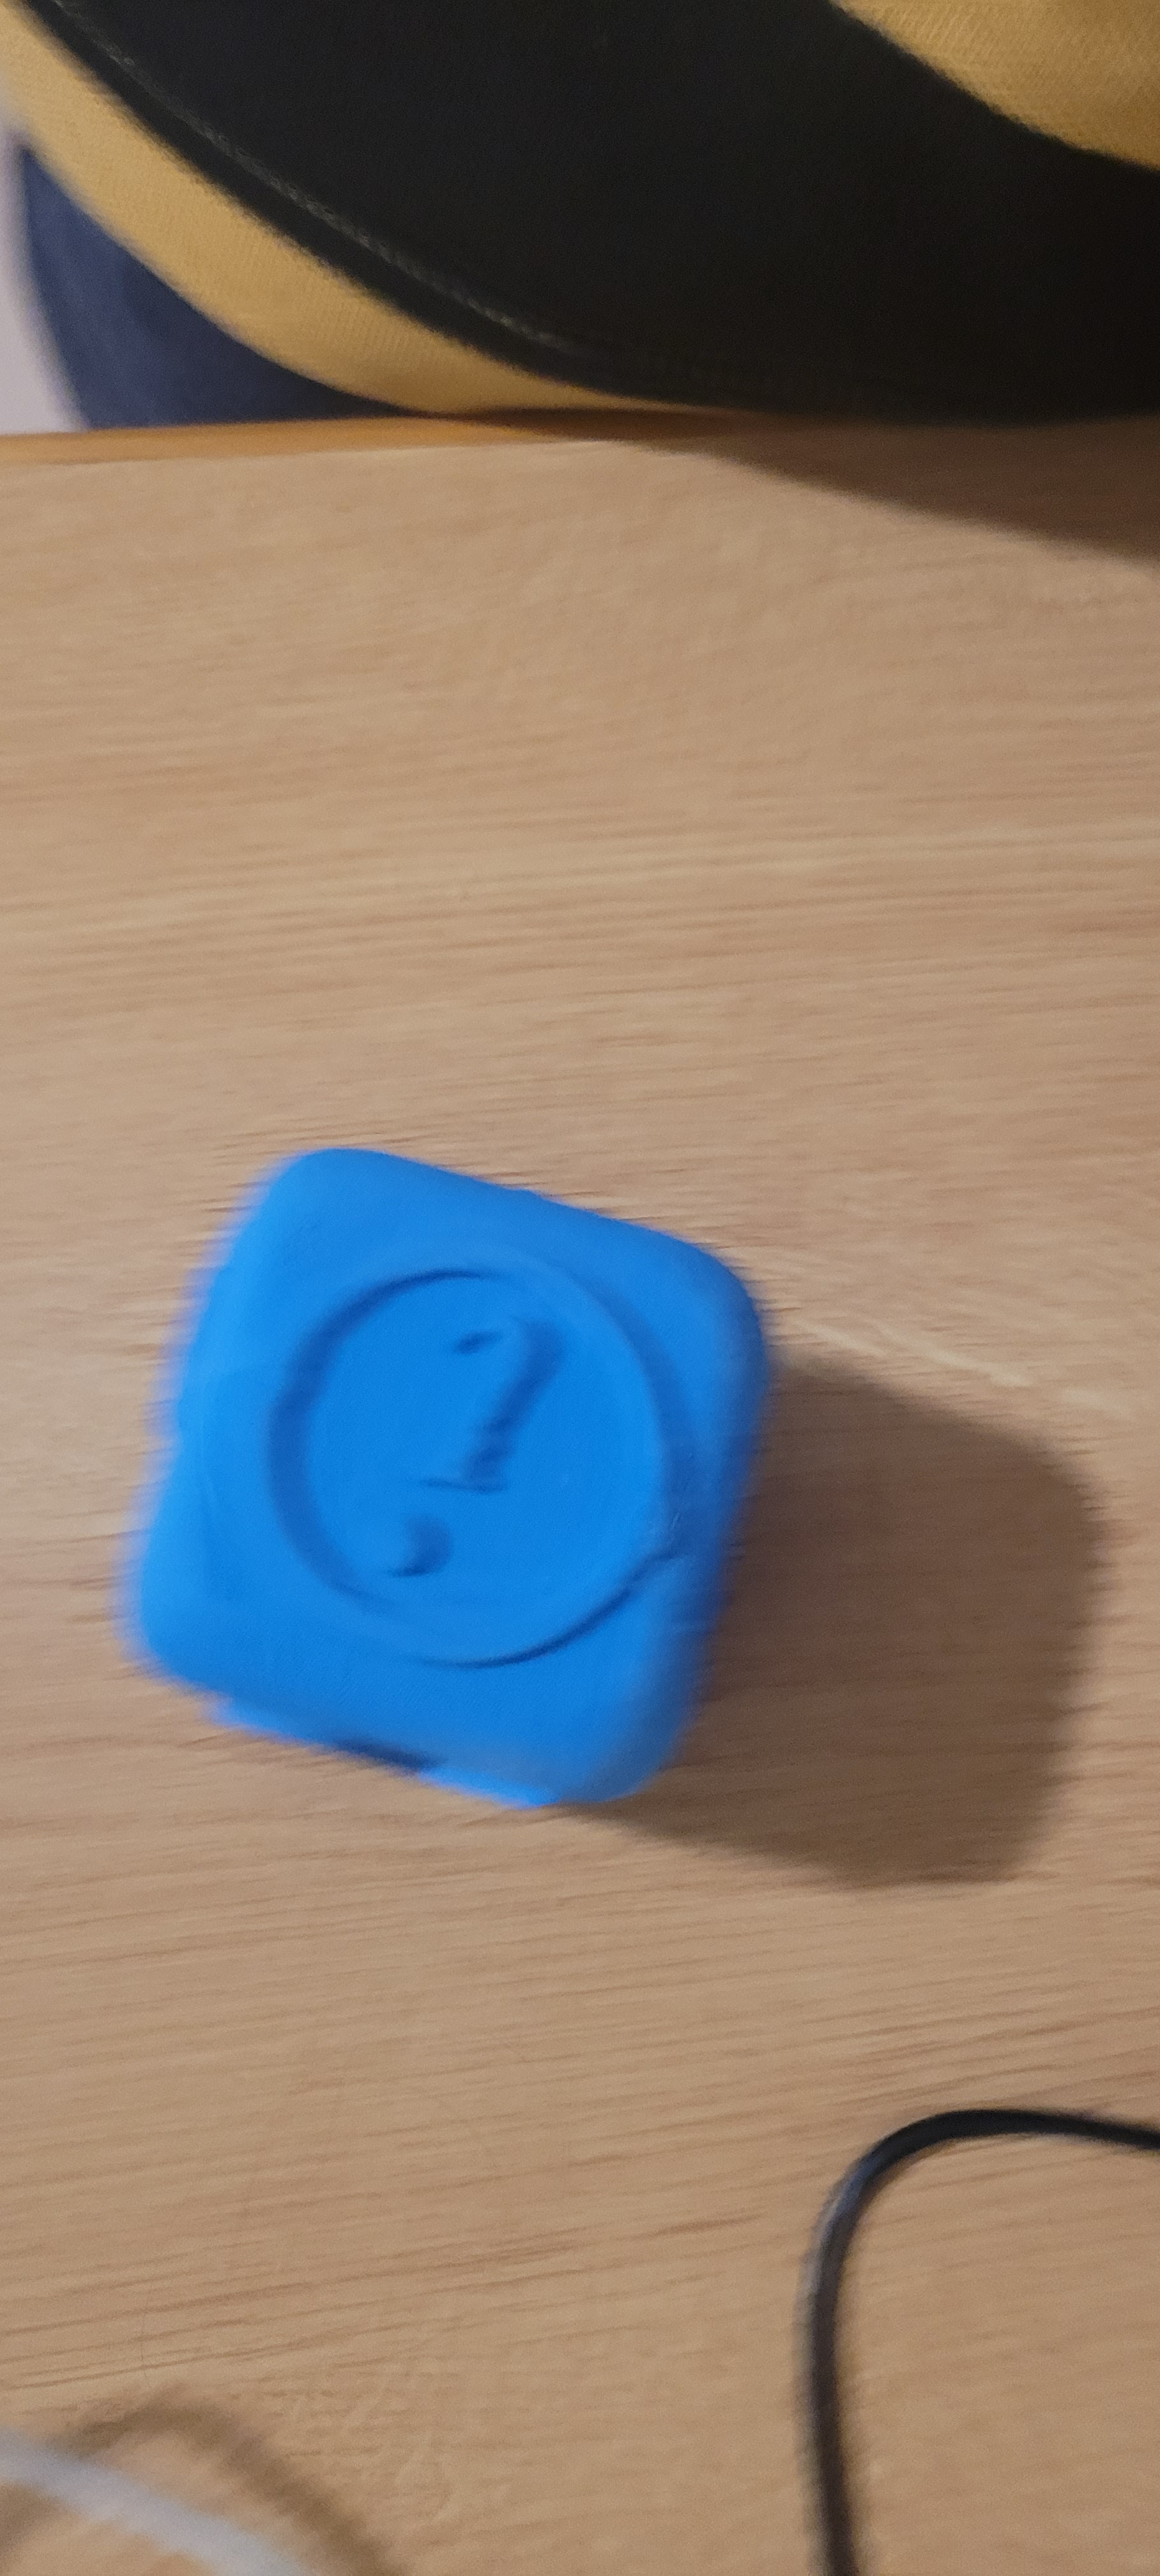Info: (184, 1281, 725, 1649)
